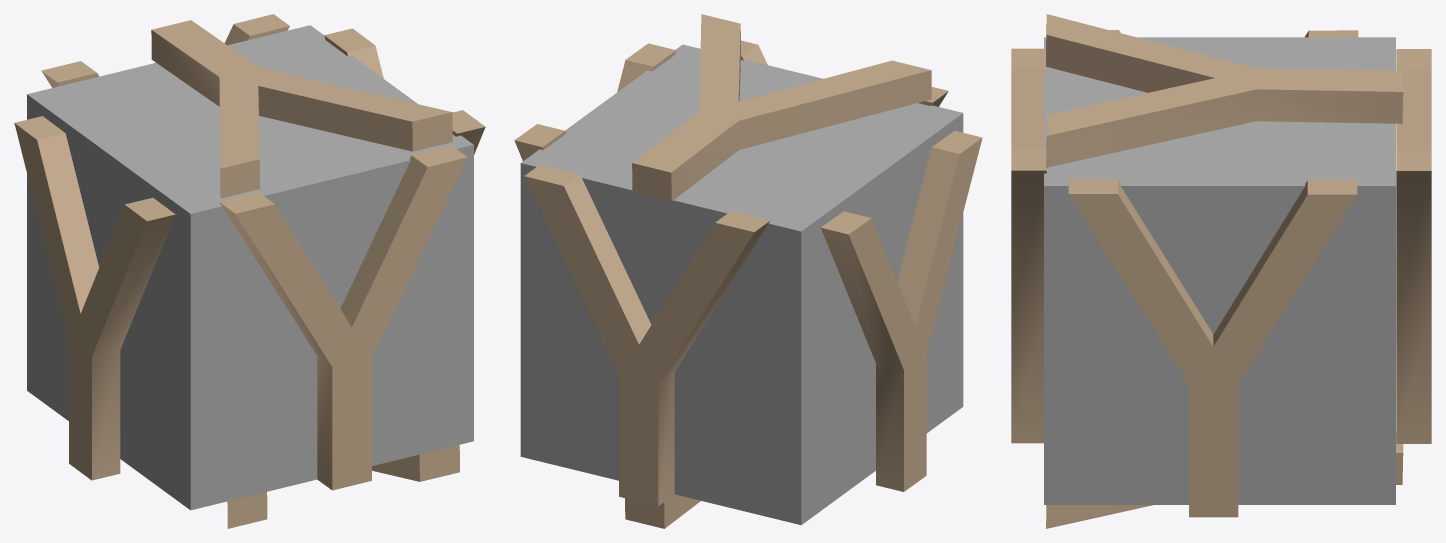
The model's file is LetterY.fbx.
3 renders of one model, left to right at view 1: azimuth 30°, elevation 25°; view 2: azimuth 150°, elevation 25°; view 3: azimuth 270°, elevation 25°, orthographic. The views are drawn at different scales.
Visible parts, largest first — view 1: Box, Text Front, Text Left, Text Top, Text Bottom, Text Right, Text Back; view 2: Box, Text Back, Text Left, Text Top, Text Right, Text Bottom, Text Front; view 3: Box, Text Right, Text Top, Text Back, Text Front, Text Bottom.
Boxes of the visible parts, left/top/right/bottom form: Box: left=27, top=25, right=473, bottom=510; Text Front: left=219, top=145, right=467, bottom=490; Text Left: left=14, top=116, right=175, bottom=480; Text Top: left=151, top=20, right=452, bottom=198; Text Bottom: left=227, top=445, right=459, bottom=528; Text Right: left=324, top=28, right=485, bottom=154; Text Back: left=41, top=14, right=289, bottom=87; Box: left=520, top=44, right=963, bottom=525; Text Back: left=524, top=164, right=770, bottom=506; Text Left: left=821, top=130, right=982, bottom=491; Text Top: left=632, top=14, right=931, bottom=201; Text Right: left=514, top=43, right=676, bottom=160; Text Bottom: left=625, top=494, right=700, bottom=528; Text Front: left=741, top=40, right=948, bottom=106; Box: left=1044, top=37, right=1395, bottom=504; Text Right: left=1068, top=179, right=1357, bottom=517; Text Top: left=1046, top=14, right=1403, bottom=167; Text Back: left=1396, top=49, right=1431, bottom=443; Text Front: left=1011, top=48, right=1046, bottom=443; Text Bottom: left=1046, top=432, right=1403, bottom=528.
Bounding box in the file's own units: 1.2 × 1.24 × 1.19.
